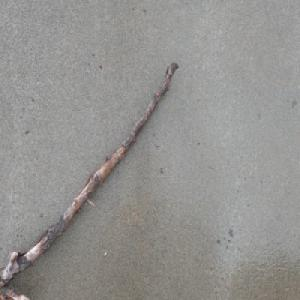Wood: (0, 60, 179, 300)
